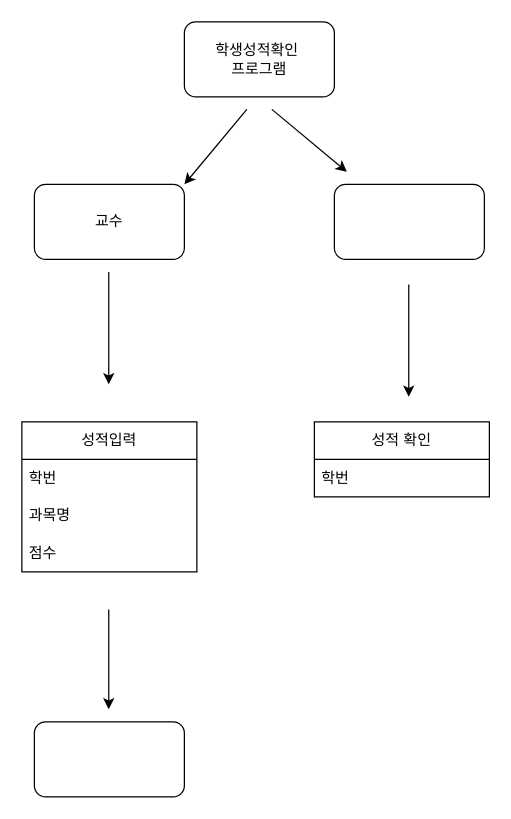
Image size: 511x819. Some labels were removed from this diagram. Here are the shapes that lost their labels. From the top down, the centre of each, then its label:
(x=408, y=221): 학생
(x=108, y=759): 파일 저장
